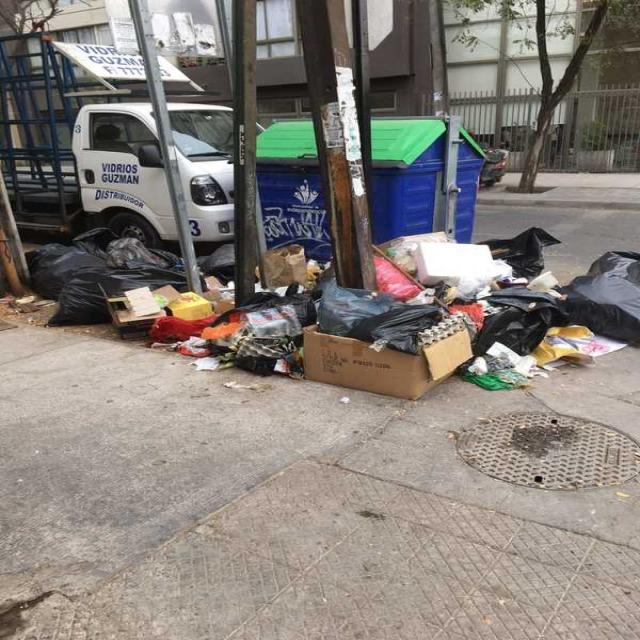garbage: (223, 230, 640, 403), (29, 228, 222, 360)
